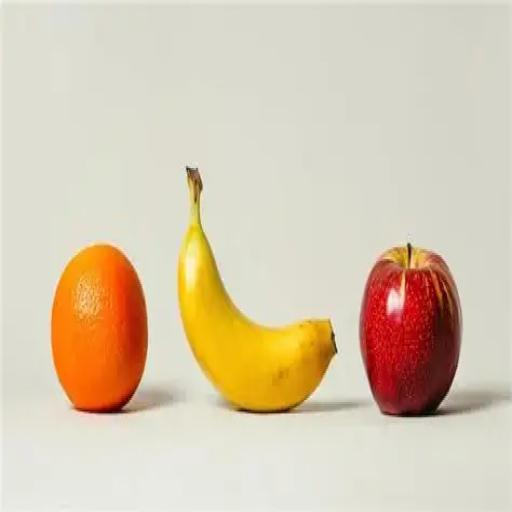apple: (359, 244, 462, 415)
banana: (179, 169, 337, 411)
orange: (51, 244, 147, 411)
